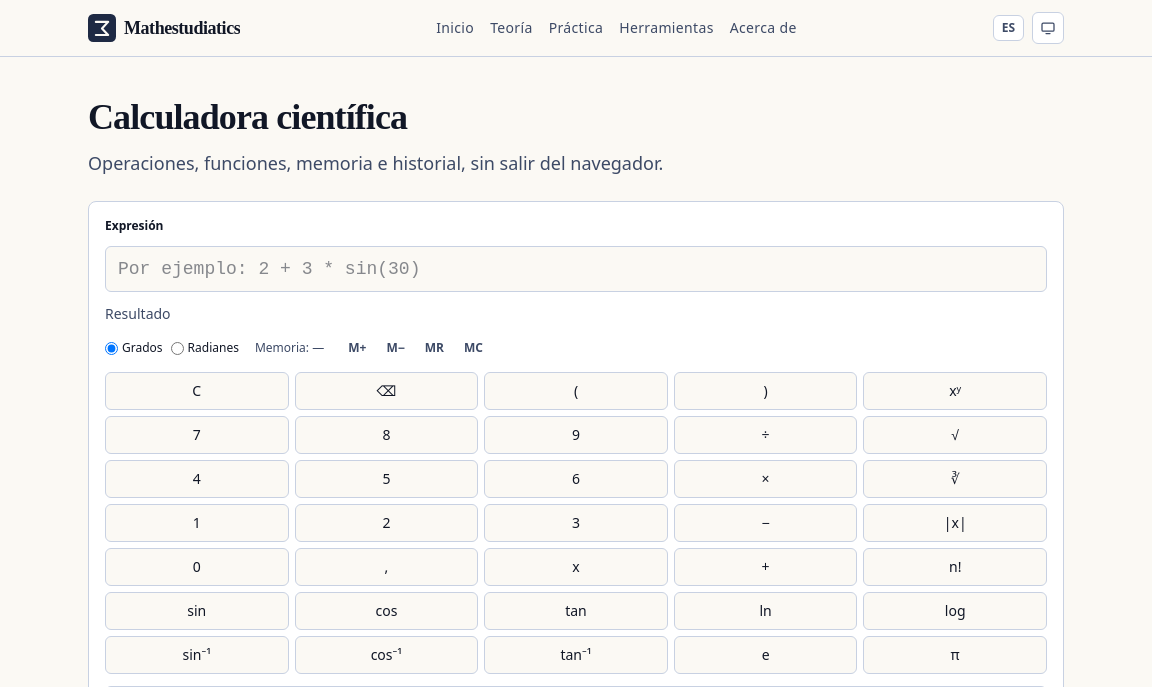
Test: calculator page › reports domain errors in plain language
expect the heading "Calculadora científica" is shown: met, box 88,97 -> 407,137
Type "sqrt(-1)" into the field labelled "Expresión" at (576, 269), box 105,246 -> 1047,292
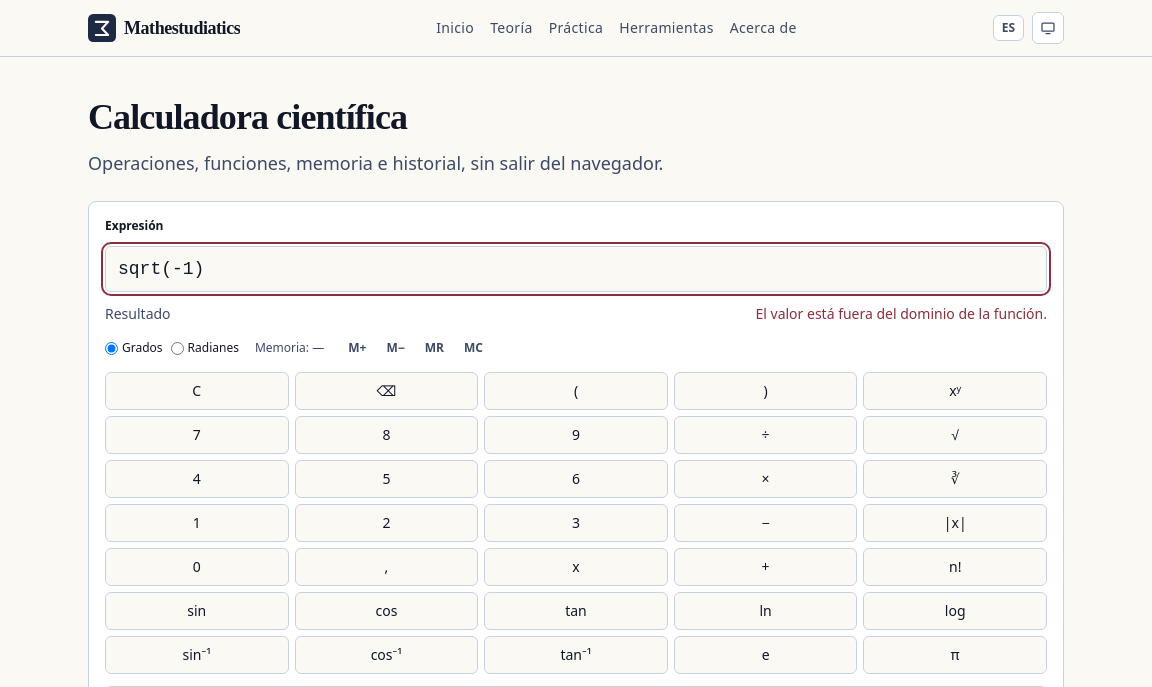
expect the message shows "dominio": met, box 756,304 -> 1047,323
